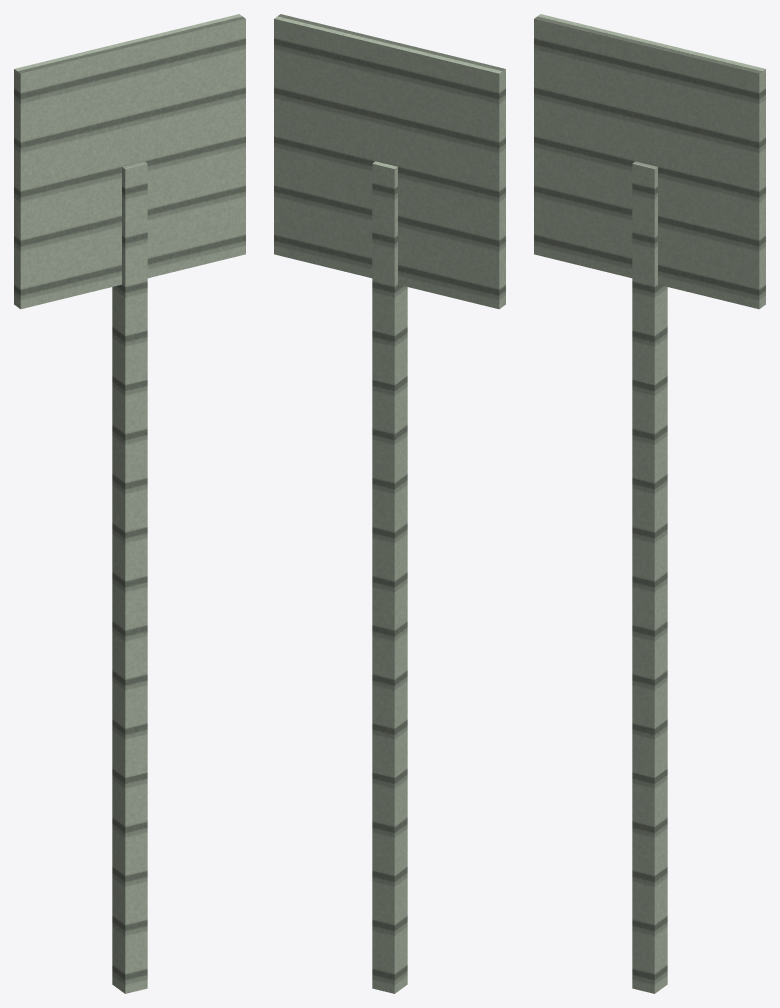
The model's file is stop_sign.glb.
3 renders of one model, left to right at view 1: azimuth 30°, elevation 25°; view 2: azimuth 150°, elevation 25°; view 3: azimuth 330°, elevation 25°, orthographic.
Parts seen in each view (by area): view 1: stop_sign-col; view 2: stop_sign-col; view 3: stop_sign-col.
Part boxes in pixels (box(x1,y1,x2,y2)): stop_sign-col: box(14, 14, 245, 993); stop_sign-col: box(274, 14, 505, 993); stop_sign-col: box(534, 14, 765, 993).
Bounding box in the file's own units: 0.6 × 2.4 × 0.06.
Materials: 1 (1 with a texture image).
